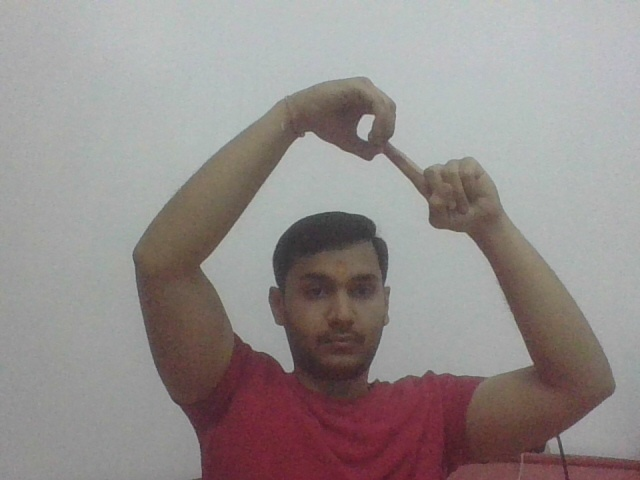Q: (329, 65, 473, 203)
